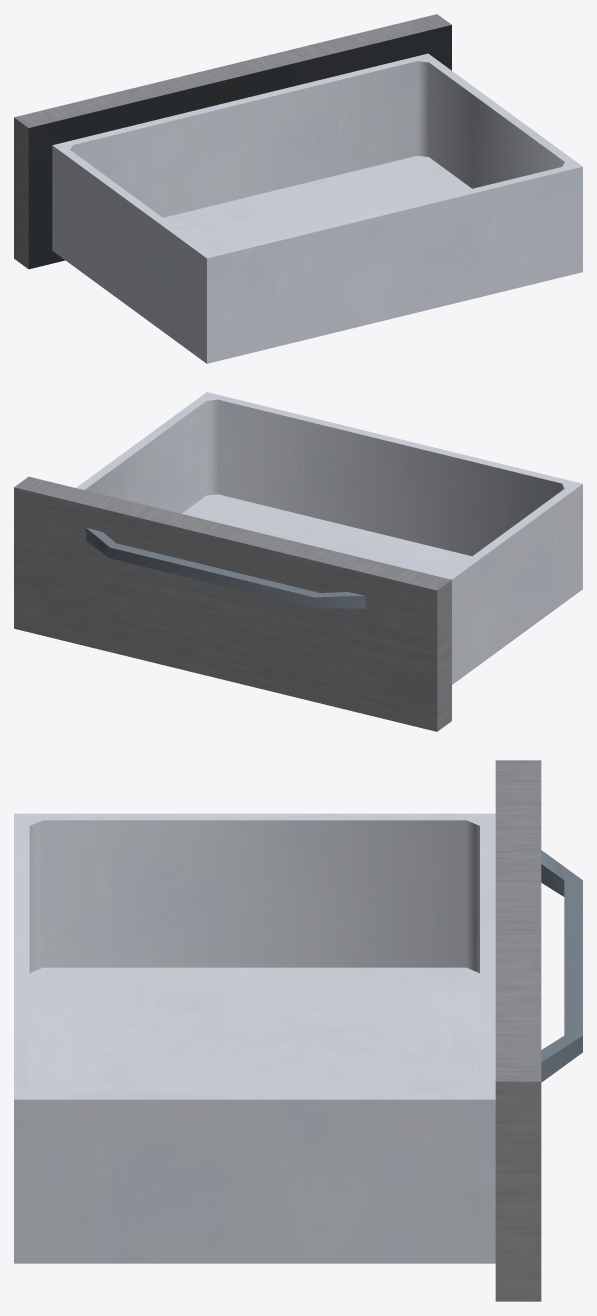
Rendered from Refrigerator_drawer_01.glb.
3 views of the same model, one above another, from view 1: azimuth 30°, elevation 25°; view 2: azimuth 150°, elevation 25°; view 3: azimuth 270°, elevation 25° (orthographic). The views are drawn at different scales.
Parts seen in each view (by area): view 1: Refrigerator_drawer_01; view 2: Refrigerator_drawer_01; view 3: Refrigerator_drawer_01.
Part boxes in pixels (bbox=[...]): Refrigerator_drawer_01: bbox=[14, 14, 582, 363]; Refrigerator_drawer_01: bbox=[14, 392, 582, 731]; Refrigerator_drawer_01: bbox=[14, 760, 582, 1301].
Size of the model in its own units: 1.11 by 0.3529 by 0.8271.
Materials: 4 (4 with a texture image).
